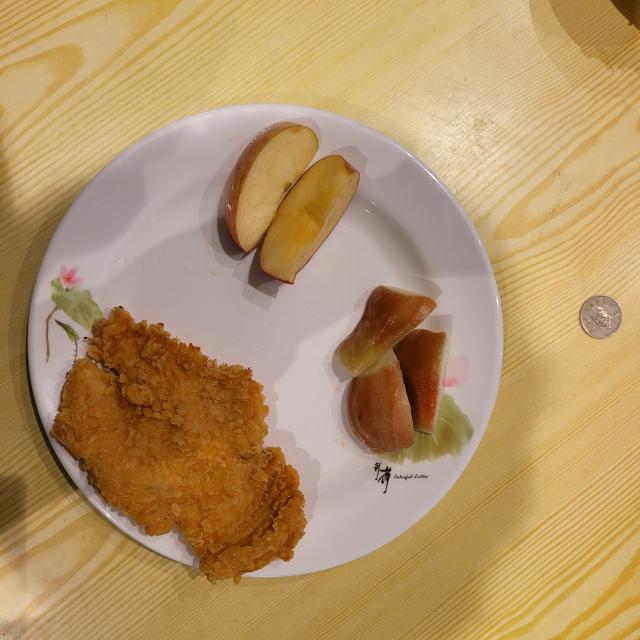apple -sliced-: (225, 122, 360, 284)
coin: (580, 295, 622, 339)
fried chicken cutlet: (51, 308, 306, 581)
